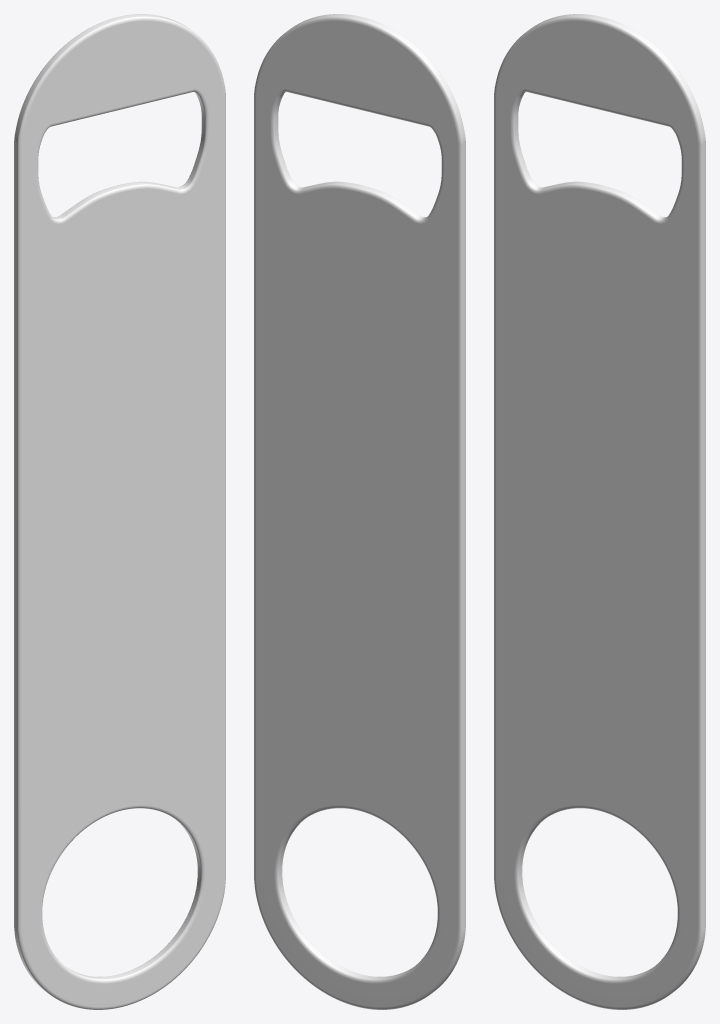
The model's file is bottle_opener.glb.
3 renders of one model, left to right at view 1: azimuth 30°, elevation 25°; view 2: azimuth 150°, elevation 25°; view 3: azimuth 330°, elevation 25°, orthographic.
Visible parts, largest first — view 1: Cube; view 2: Cube; view 3: Cube.
Part boxes in pixels (x1,y1,x2,y2): Cube: (14,14,225,1009); Cube: (254,14,465,1009); Cube: (494,14,705,1009).
Size of the model in its own units: 0.039 by 0.1767 by 0.0018.
Materials: 1 (1 with a texture image).
